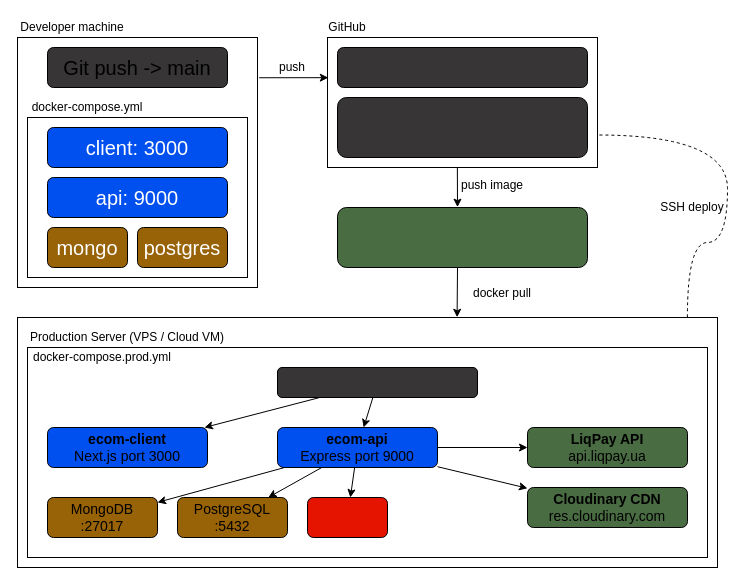
Some shapes in this 745 by 585 pixel diagram are drawn without their labels. Each missing label, with the box of its shape:
GHCR ecom-api:latest, ecom-client:latest: (336, 206, 588, 268)
GitHub Actions ci.yml cd-production.yml: (336, 96, 588, 158)
Nginx reverse proxy: 80/:443: (276, 366, 478, 398)
Redis :6379: (306, 496, 388, 538)
Repository (main branch): (336, 46, 588, 88)
